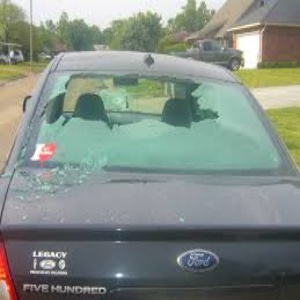rear_windshield_glass: (53, 68, 240, 166)
